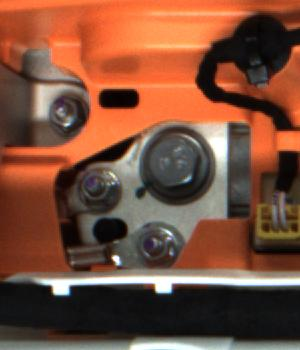nut_b: (138, 121, 221, 205)
screw_s: (72, 164, 118, 211), (43, 89, 82, 134), (135, 228, 179, 265)
